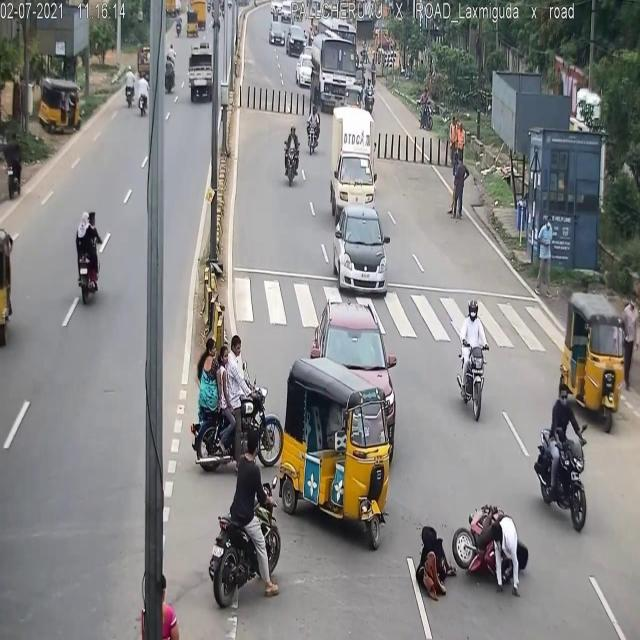accident: (408, 492, 533, 620)
non_accident: (323, 94, 387, 300), (293, 27, 373, 109), (264, 13, 308, 63), (182, 0, 210, 52)
